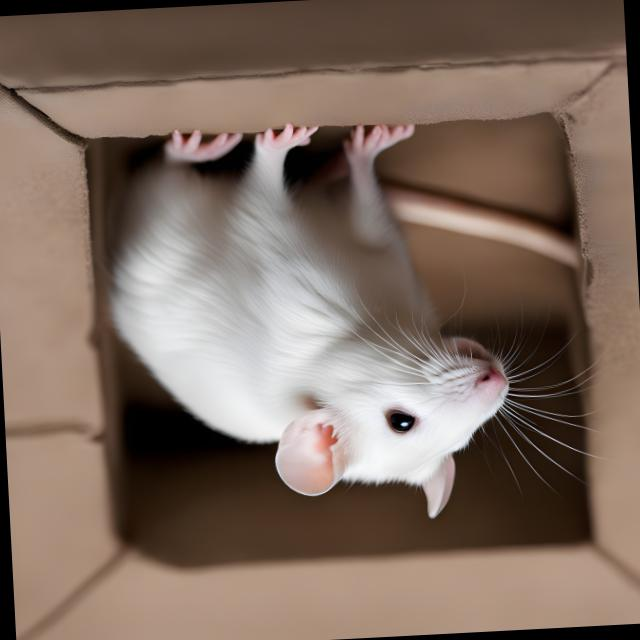rodent: (91, 94, 536, 545)
